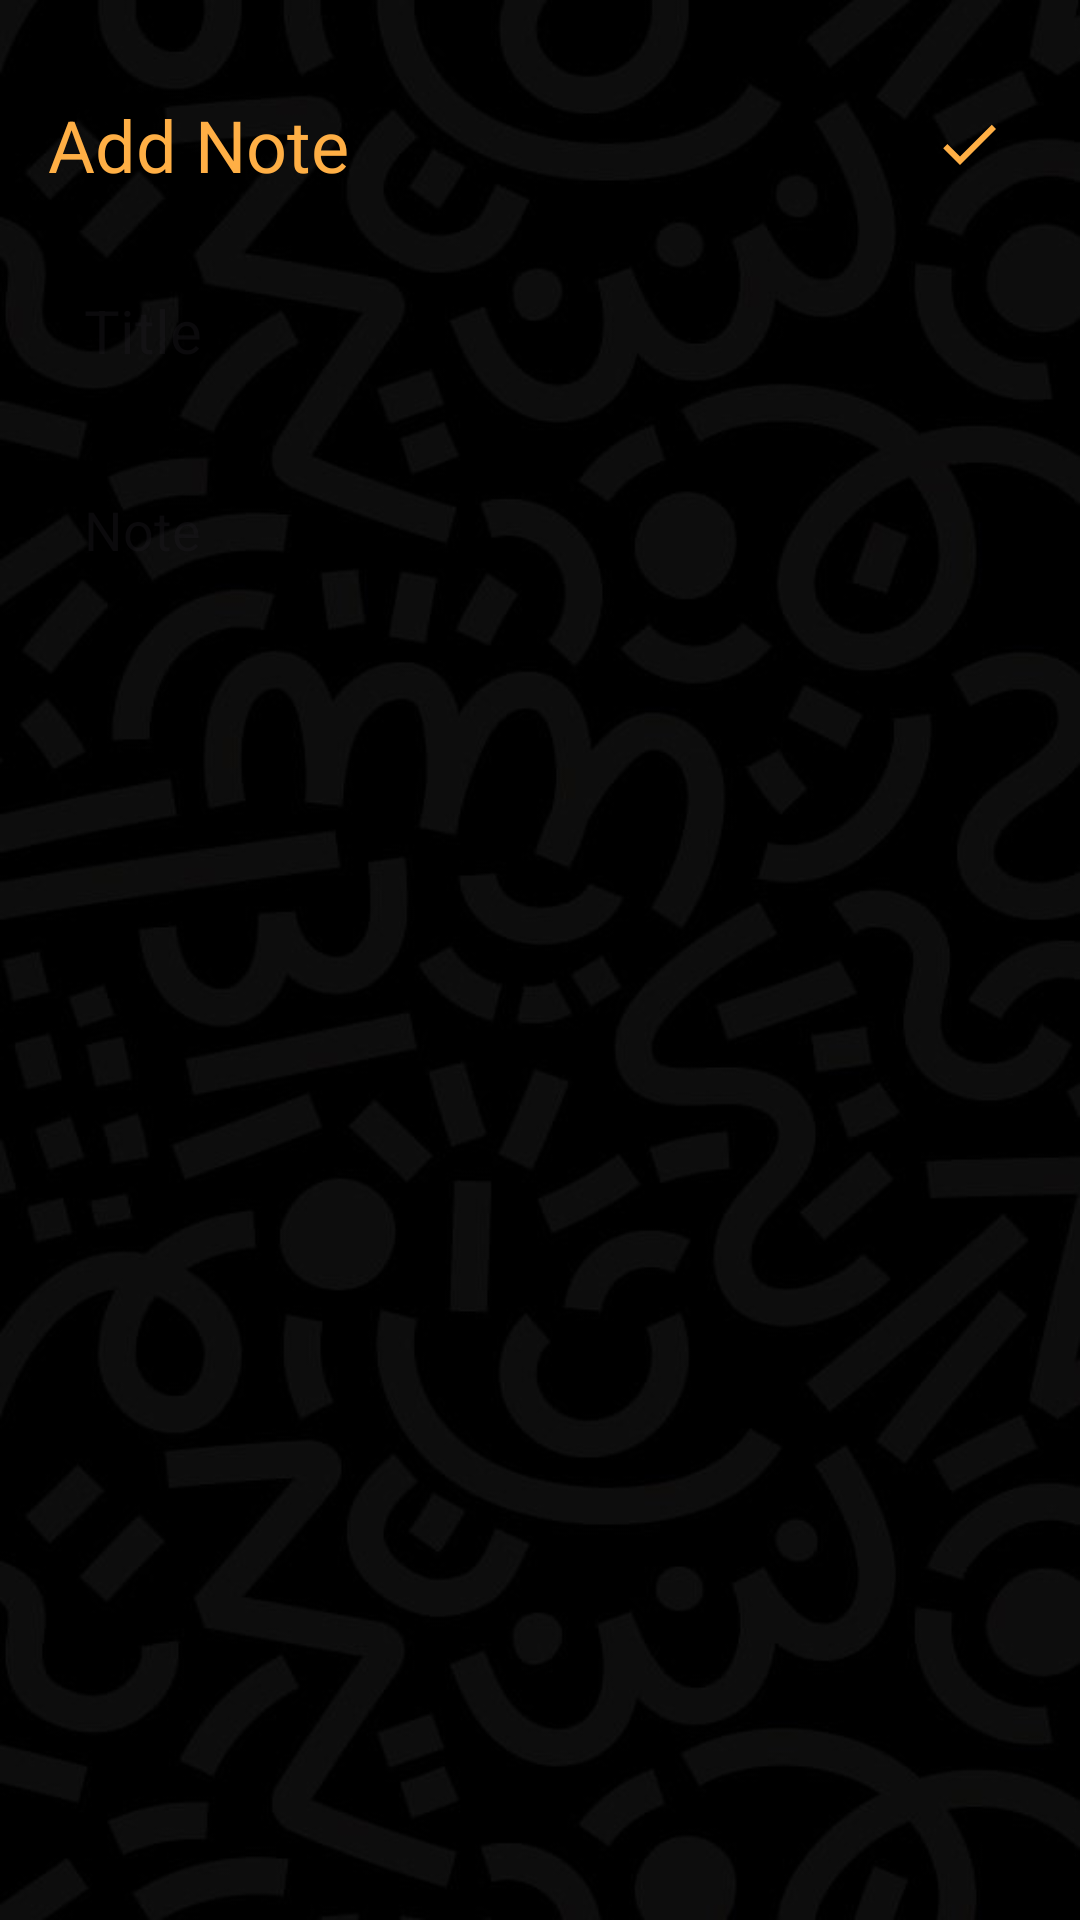

Where to tap for icons on this 1080 × 1920 app screen, as [x,y]:
done: [969,145]
